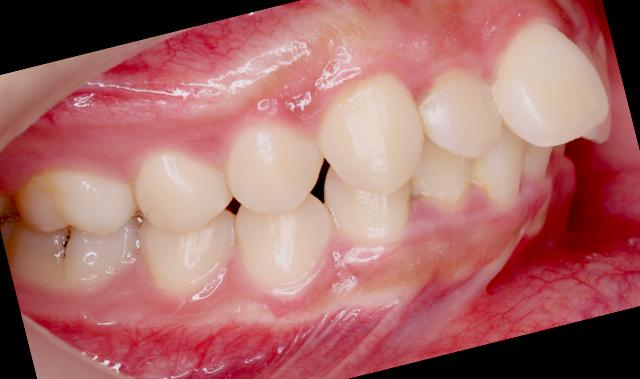canine class II 3/4: (202, 64, 464, 316)
molar class III 1/2: (0, 139, 159, 319)
